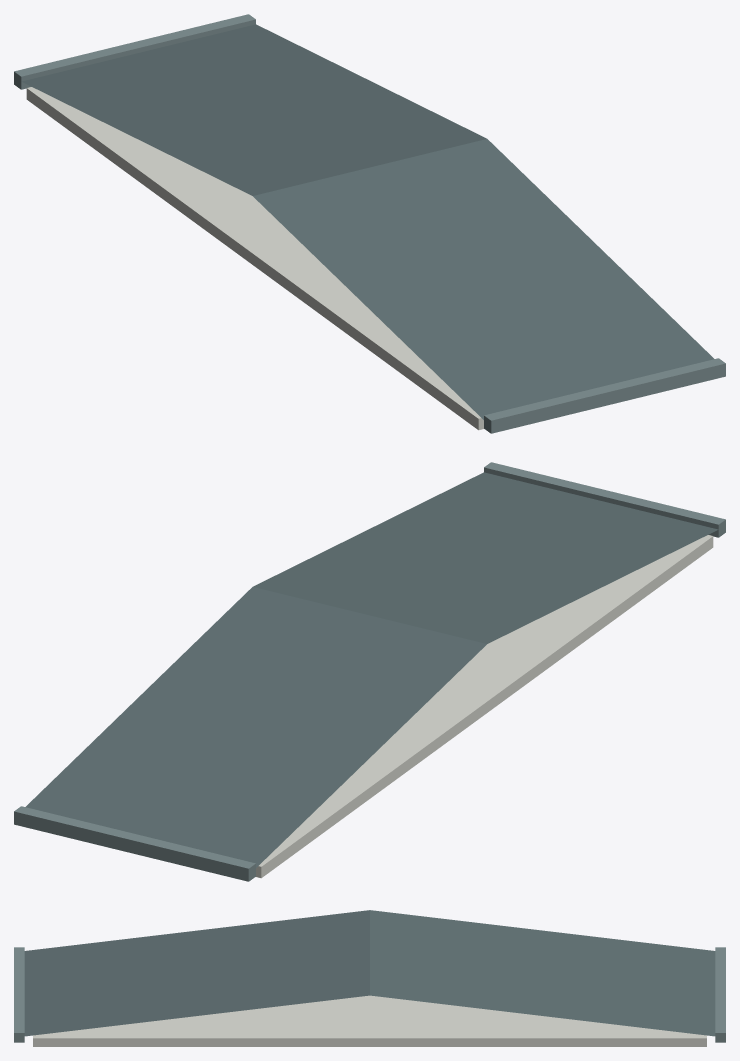
Rendered from terminal_roof_3x10m.glb.
The picture shows the model from 3 angles, top to bottom: view 1: azimuth 30°, elevation 25°; view 2: azimuth 150°, elevation 25°; view 3: azimuth 270°, elevation 25°; orthographic projection. The views are drawn at different scales.
Visible parts, largest first — view 1: terminal_roof_3x10m__Roof paint, terminal_roof_3x10m__Warm white painted steel, terminal_roof_3x10m__Deep petrol painted steel; view 2: terminal_roof_3x10m__Roof paint, terminal_roof_3x10m__Warm white painted steel, terminal_roof_3x10m__Deep petrol painted steel; view 3: terminal_roof_3x10m__Roof paint, terminal_roof_3x10m__Warm white painted steel, terminal_roof_3x10m__Deep petrol painted steel.
Part boxes in pixels (left/top/right/bottom): terminal_roof_3x10m__Roof paint: left=21, top=24, right=714, bottom=419; terminal_roof_3x10m__Warm white painted steel: left=26, top=87, right=483, bottom=430; terminal_roof_3x10m__Deep petrol painted steel: left=14, top=14, right=725, bottom=433; terminal_roof_3x10m__Roof paint: left=25, top=472, right=718, bottom=867; terminal_roof_3x10m__Warm white painted steel: left=256, top=535, right=713, bottom=878; terminal_roof_3x10m__Deep petrol painted steel: left=14, top=462, right=725, bottom=881; terminal_roof_3x10m__Roof paint: left=24, top=910, right=715, bottom=1036; terminal_roof_3x10m__Warm white painted steel: left=33, top=995, right=706, bottom=1046; terminal_roof_3x10m__Deep petrol painted steel: left=14, top=947, right=725, bottom=1042.
Size of the model in its own units: 3 by 0.865 by 10.56.
